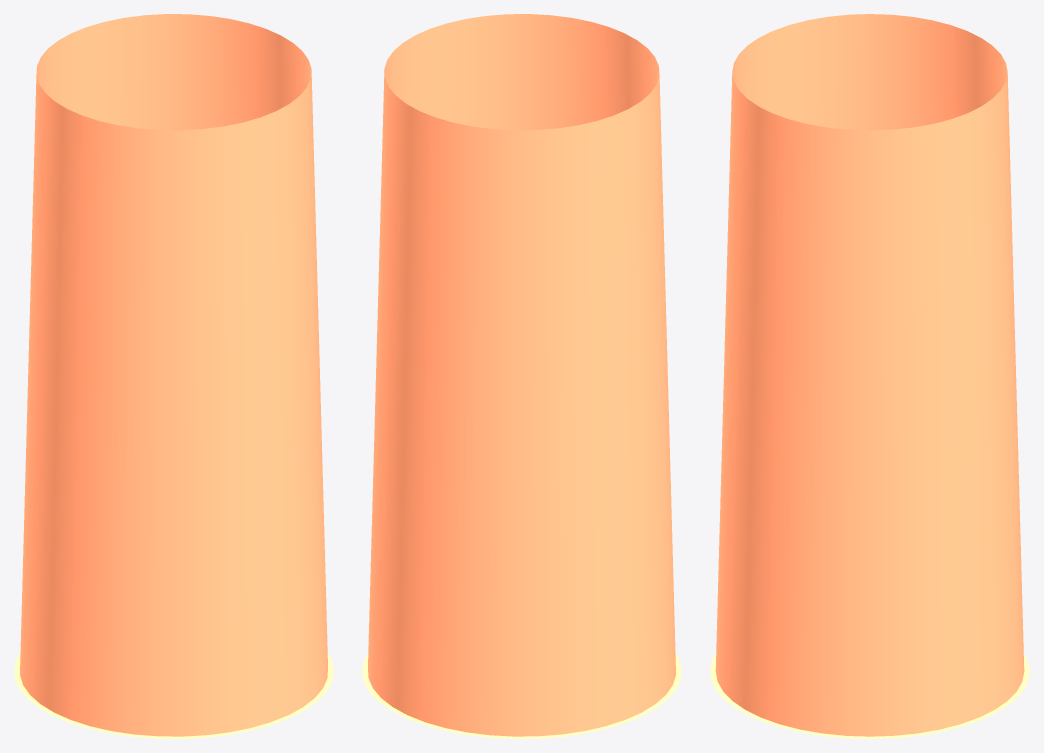
File: zone_red.glb
3 views of the same model, side by side, from view 1: azimuth 30°, elevation 25°; view 2: azimuth 150°, elevation 25°; view 3: azimuth 270°, elevation 25° (orthographic).
Parts seen in each view (by area): view 1: zone_red.glb; view 2: zone_red.glb; view 3: zone_red.glb.
Boxes of the visible parts, x1=… form: zone_red.glb: x1=14, y1=14, x2=333, y2=738; zone_red.glb: x1=362, y1=14, x2=681, y2=738; zone_red.glb: x1=710, y1=14, x2=1029, y2=738.
Size of the model in its own units: 1.16 by 2.4 by 1.16.
